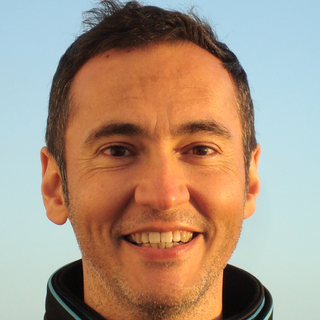eye: (95, 139, 144, 164), (177, 138, 224, 163)
